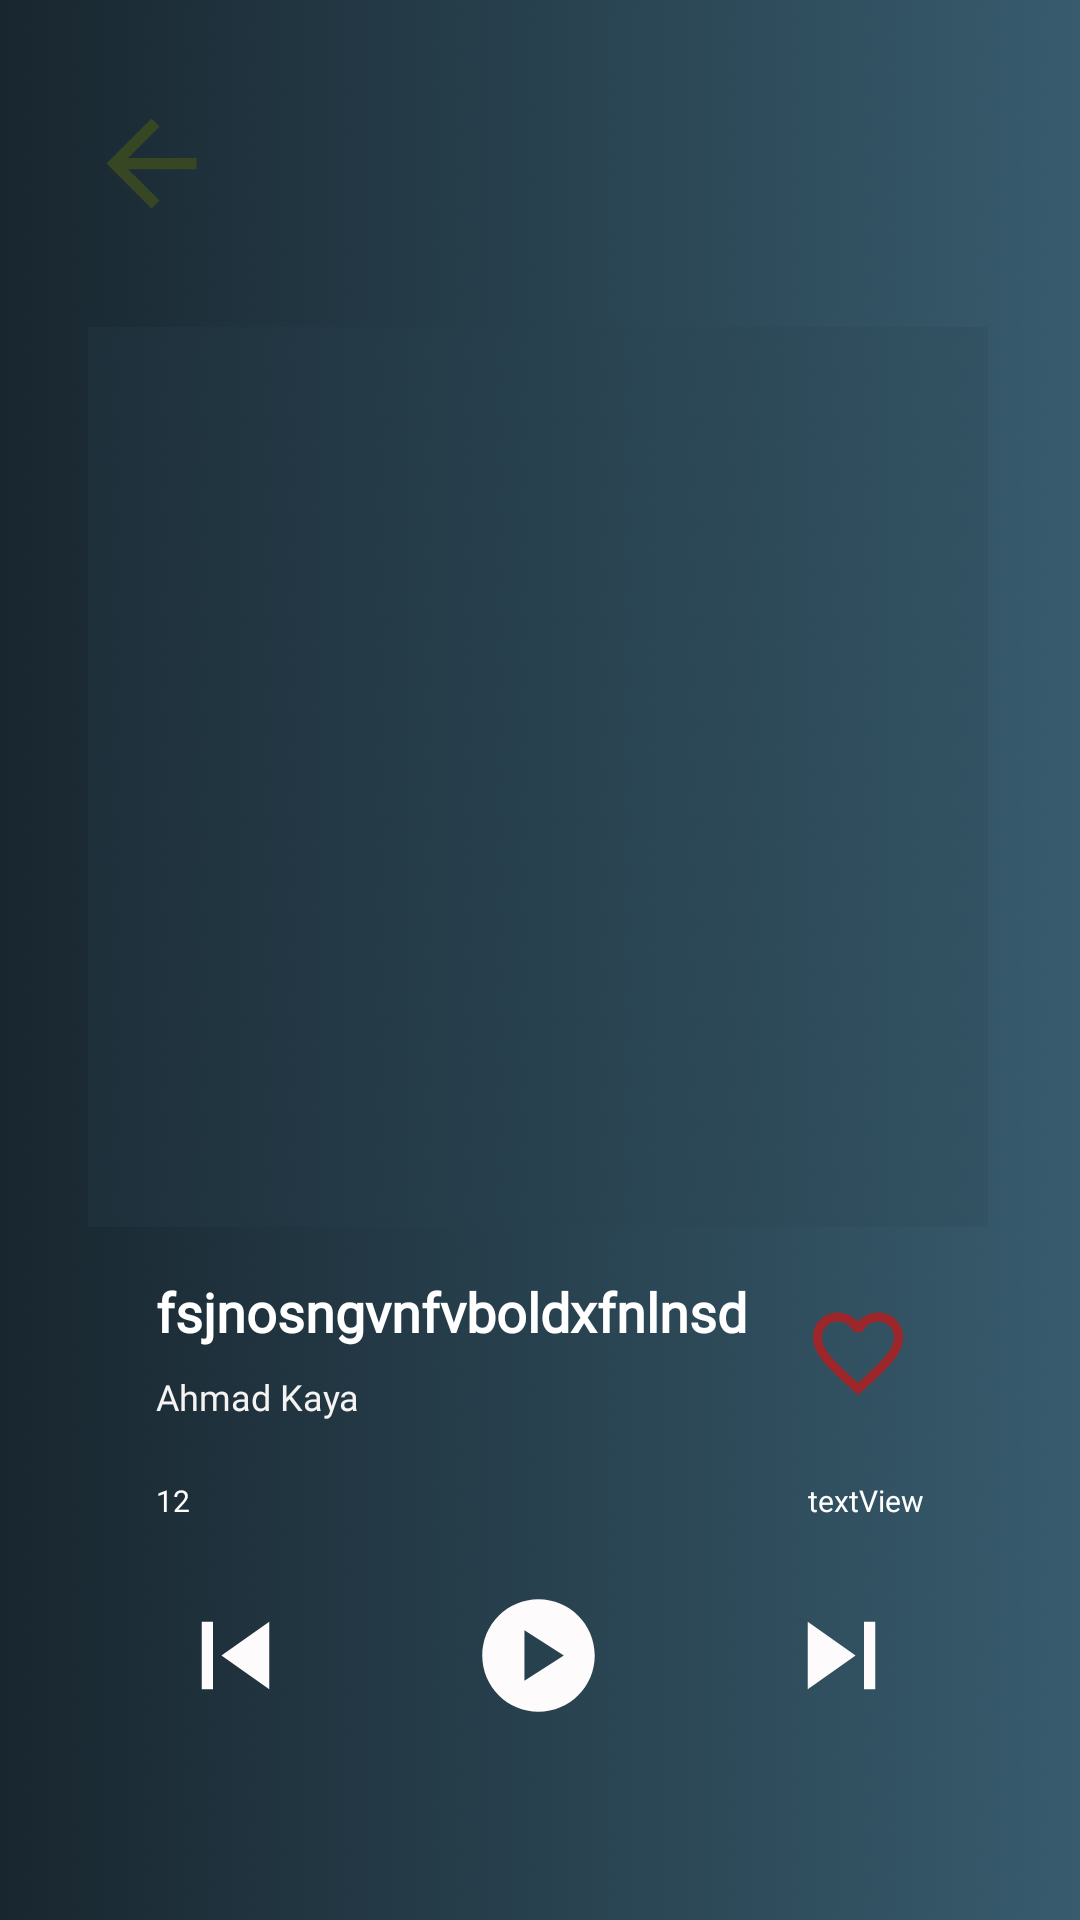

Named icons in this screenshot (1080px×1920px) and their centers, (x=x, y=y):
favorite border: (x=858, y=1353)
player back arrow: (x=151, y=163)
player next: (x=841, y=1655)
player play: (x=538, y=1655)
player previous: (x=235, y=1655)
